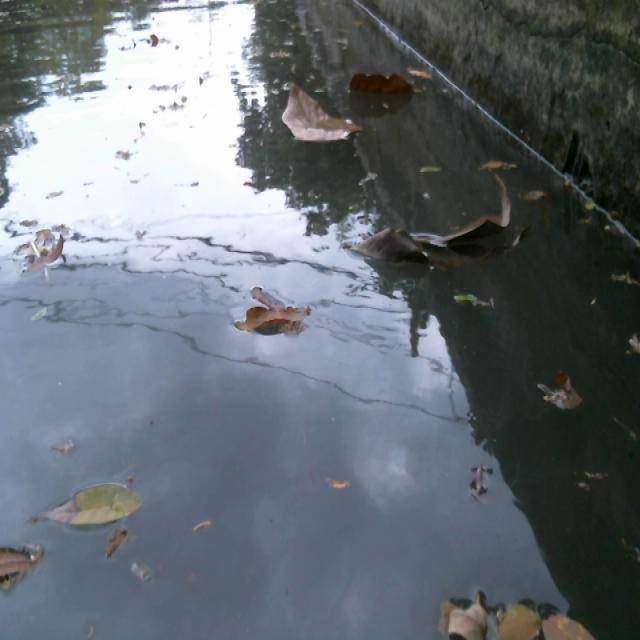Big-leaf: (358, 182, 520, 277), (245, 271, 325, 346), (284, 86, 359, 153), (347, 74, 428, 109)
Small-leaf: (35, 467, 145, 527), (550, 362, 606, 426), (428, 588, 490, 640), (0, 530, 44, 600), (508, 158, 562, 207), (35, 215, 76, 270), (192, 491, 222, 554), (321, 449, 361, 495), (542, 617, 615, 640), (495, 607, 539, 640), (97, 527, 129, 564), (416, 162, 447, 182), (624, 324, 640, 362), (585, 194, 607, 216)
